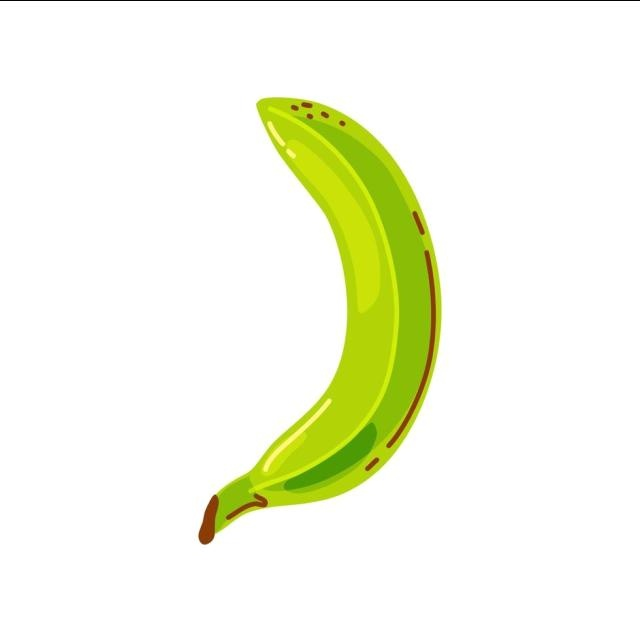agrume: (194, 89, 454, 548)
